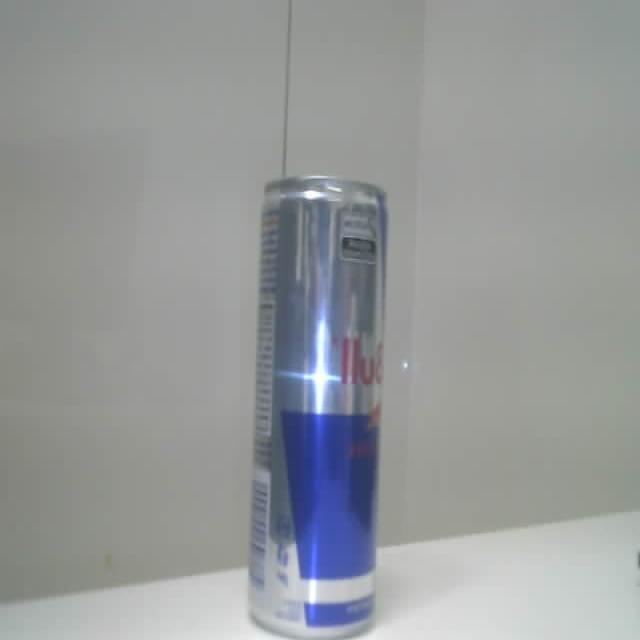redbull can: (249, 176, 386, 637)
